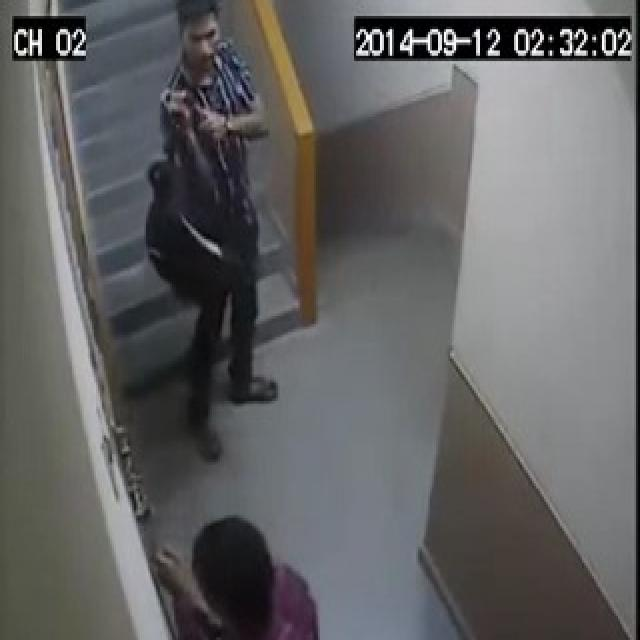thief: (144, 512, 326, 637), (147, 3, 196, 45)
